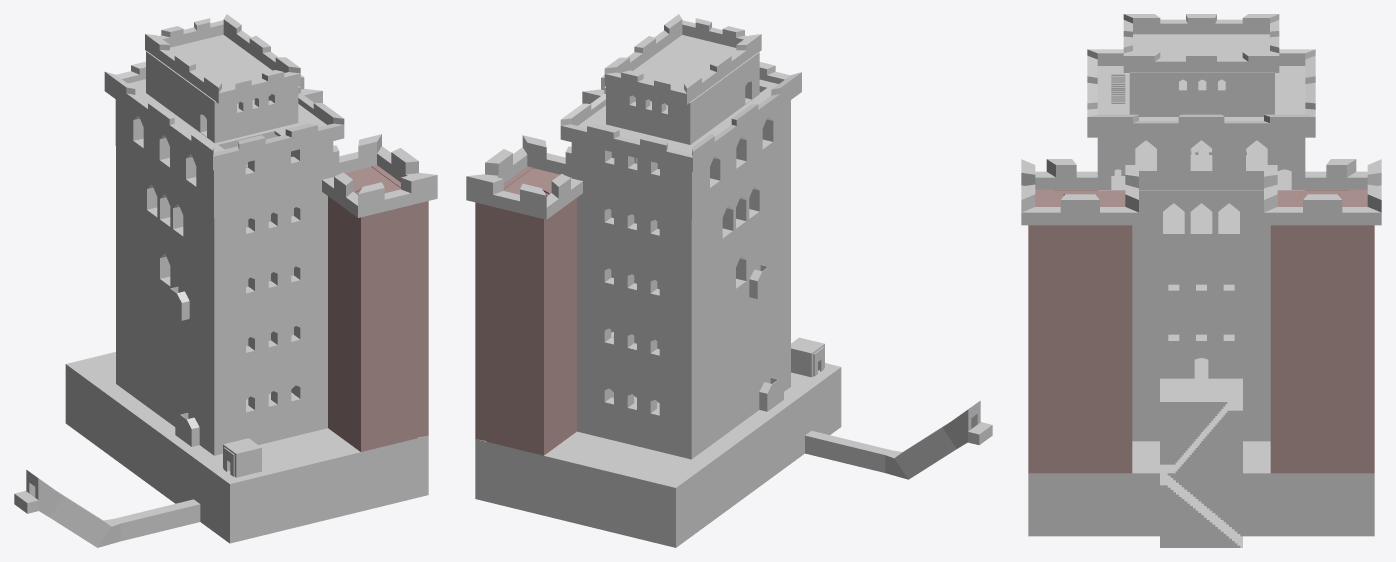
Rendered from inside_cas_new.glb.
The picture shows the model from 3 angles, left to right: view 1: azimuth 30°, elevation 25°; view 2: azimuth 150°, elevation 25°; view 3: azimuth 270°, elevation 25°; orthographic projection. The views are drawn at different scales.
Parts seen in each view (by area): view 1: Cylinder.241, Cube.400, Cube.382, Cube.371, Cube.379, Cube.398, Cube.385, Cube.388, Cube.396, Cube.393, Cube.397, Cube.369 (+6 smaller); view 2: Cylinder.241, Cube.400, Cube.382, Cube.371, Cube.398, Cube.379, Cube.385, Cube.388, Cube.396, Cube.393, Cube.397, Cube.369 (+6 smaller); view 3: Cylinder.241, Cube.400, Cube.385, Cube.393, Cube.371, Cube.379, Cube.382, Cube.396, Cube.388, Cube.397, Cube.350, Cube.361 (+9 smaller).
Part boxes in pixels (<box>): Cylinder.241: <box>328,165,428,451</box>; Cube.400: <box>65,352,428,543</box>; Cube.382: <box>116,146,327,277</box>; Cube.371: <box>116,265,327,396</box>; Cube.379: <box>116,205,327,336</box>; Cube.398: <box>116,324,327,455</box>; Cube.385: <box>115,79,333,217</box>; Cube.388: <box>146,34,298,143</box>; Cube.396: <box>104,61,344,170</box>; Cube.393: <box>298,75,437,217</box>; Cube.397: <box>145,14,300,103</box>; Cube.369: <box>26,470,200,547</box>; Cylinder.241: <box>475,166,576,455</box>; Cube.400: <box>475,363,841,547</box>; Cube.382: <box>577,147,790,279</box>; Cube.371: <box>577,267,790,399</box>; Cube.398: <box>577,327,790,459</box>; Cube.379: <box>577,207,790,339</box>; Cube.385: <box>571,79,790,219</box>; Cube.388: <box>606,35,759,144</box>; Cube.396: <box>560,62,801,171</box>; Cube.393: <box>466,75,605,219</box>; Cube.397: <box>604,14,761,104</box>; Cube.369: <box>805,400,980,479</box>; Cylinder.241: <box>1028,189,1374,473</box>; Cube.400: <box>1028,467,1374,536</box>; Cube.385: <box>1097,66,1305,189</box>; Cube.393: <box>1021,159,1381,225</box>; Cube.371: <box>1132,316,1270,378</box>; Cube.379: <box>1132,253,1270,315</box>; Cube.382: <box>1098,184,1304,252</box>; Cube.396: <box>1087,49,1315,137</box>; Cube.388: <box>1129,34,1274,116</box>; Cube.397: <box>1123,14,1279,72</box>; Cube.350: <box>1160,378,1242,464</box>; Cube.361: <box>1160,473,1242,547</box>.
Size of the model in its own units: 70 by 69.65 by 52.
